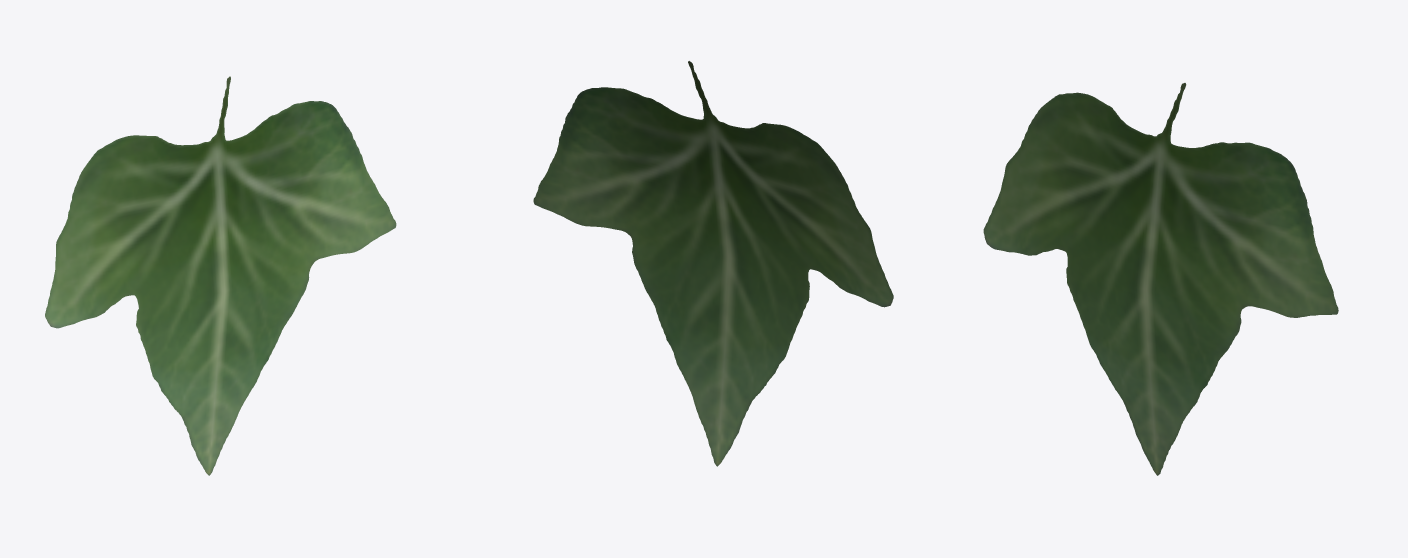
File: BgMD_vine01_07.fbx
3 renders of one model, left to right at view 1: azimuth 30°, elevation 25°; view 2: azimuth 150°, elevation 25°; view 3: azimuth 330°, elevation 25°, orthographic. The views are drawn at different scales.
Visible parts, largest first — view 1: BgMD_vine01_07; view 2: BgMD_vine01_07; view 3: BgMD_vine01_07.
Part boxes in pixels (x1,y1,x2,y2): BgMD_vine01_07: [45, 76, 396, 475]; BgMD_vine01_07: [533, 61, 893, 466]; BgMD_vine01_07: [983, 83, 1338, 475].
Size of the model in its own units: 10.22 by 10.94 by 1.15.
